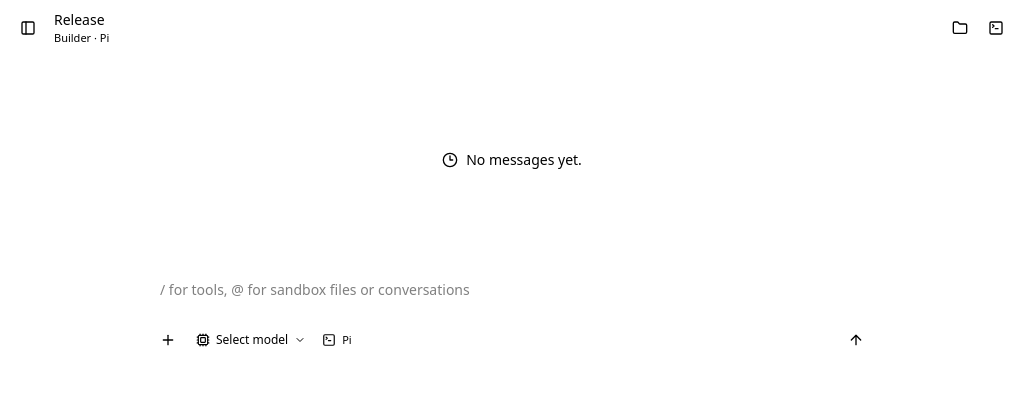
Test: Work attachment transaction failures › keeps command text when the runtime returns busy
Type "/compact preserve paths" into the dropdown named "What should the Agent accomplish?".
click(512, 296); type("/compact preserve paths")  # box [152,272,872,320]
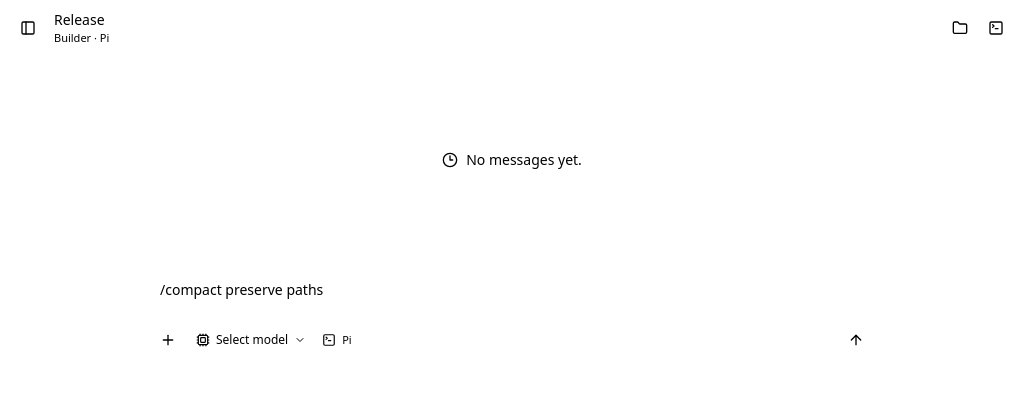
Click the button named "Send prompt".
click(856, 340)  # box [840,324,872,356]
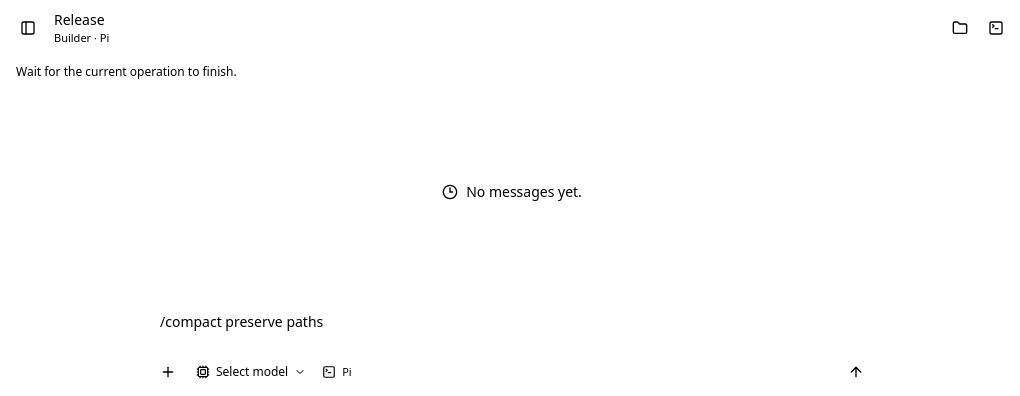
Check: the text "Wait for the current operation to finish." is shown, box [16,63,237,80]
